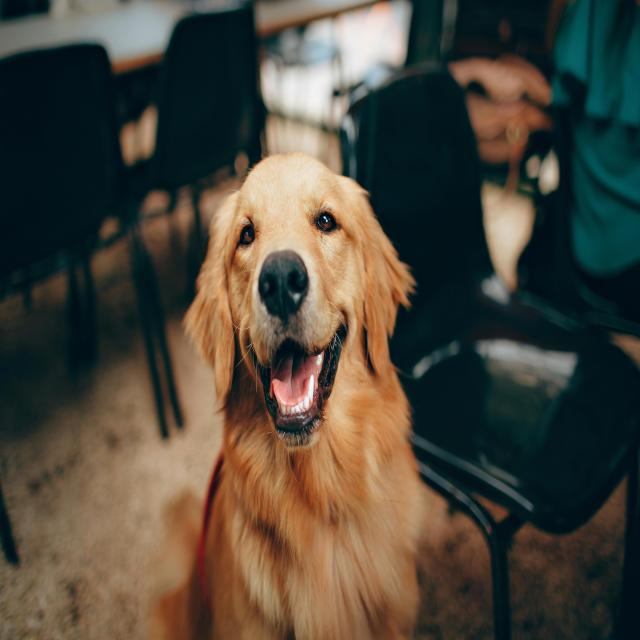dog: (158, 154, 419, 640)
